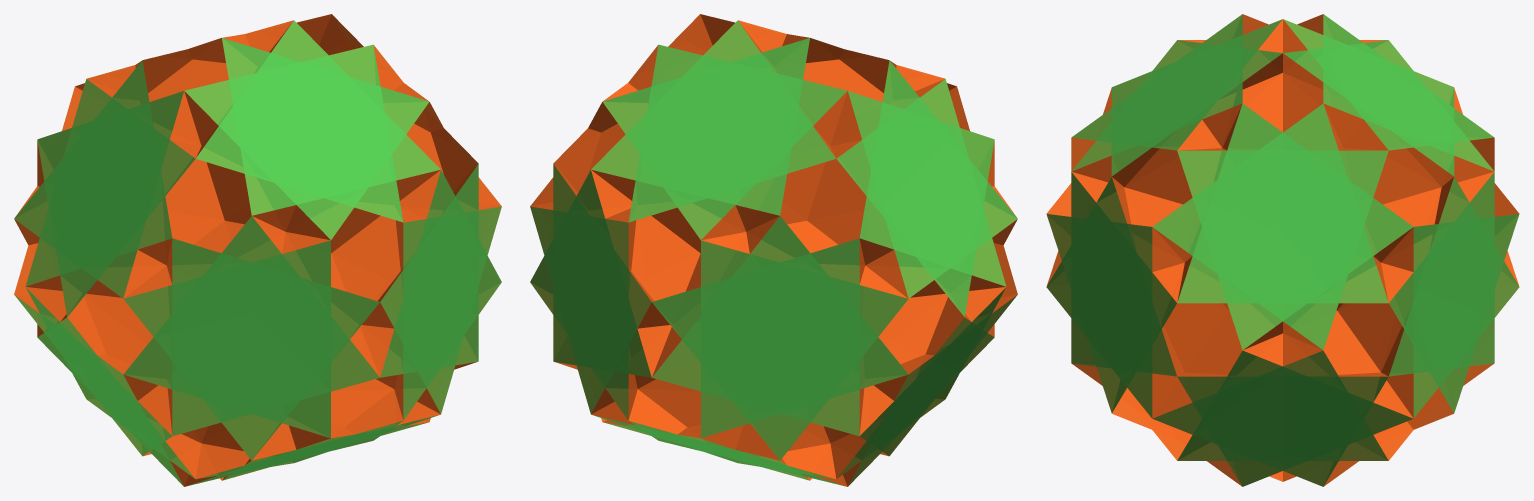
The model's file is GreatDodecicosahedron.obj.
The picture shows the model from 3 angles, left to right: view 1: azimuth 30°, elevation 25°; view 2: azimuth 150°, elevation 25°; view 3: azimuth 270°, elevation 25°; orthographic projection. The views are drawn at different scales.
Size of the model in its own units: 2.24 by 2.24 by 2.24.
